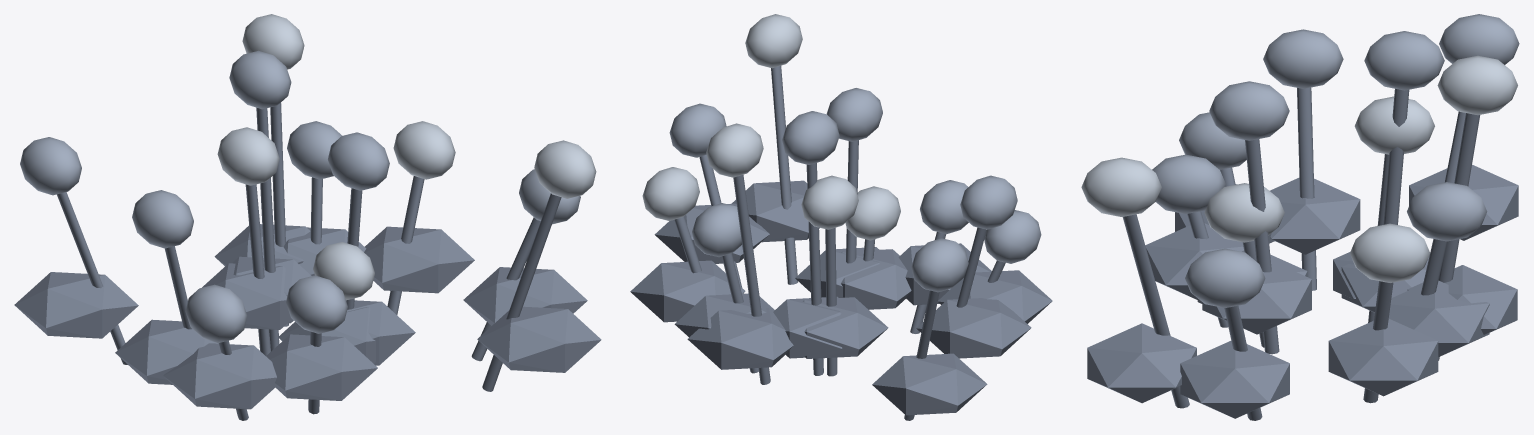
Rendered from 野花组团-lite.glb.
3 views of the same model, side by side, from view 1: azimuth 30°, elevation 25°; view 2: azimuth 150°, elevation 25°; view 3: azimuth 270°, elevation 25° (orthographic). The views are drawn at different scales.
Visible parts, largest first — view 1: garden-flowers-wild; view 2: garden-flowers-wild; view 3: garden-flowers-wild.
Part boxes in pixels (bbox=[...]): garden-flowers-wild: bbox=[14, 14, 601, 420]; garden-flowers-wild: bbox=[630, 14, 1052, 420]; garden-flowers-wild: bbox=[1081, 14, 1519, 420].
Size of the model in its own units: 1.1 by 0.7 by 0.9.
